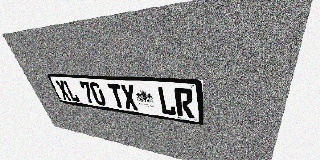0: (88, 82, 107, 106)
7: (78, 81, 97, 104)
L: (157, 86, 177, 116), (63, 80, 80, 102)
R: (174, 87, 194, 118)
T: (107, 83, 126, 109)
X: (119, 84, 139, 110), (54, 80, 72, 101)
